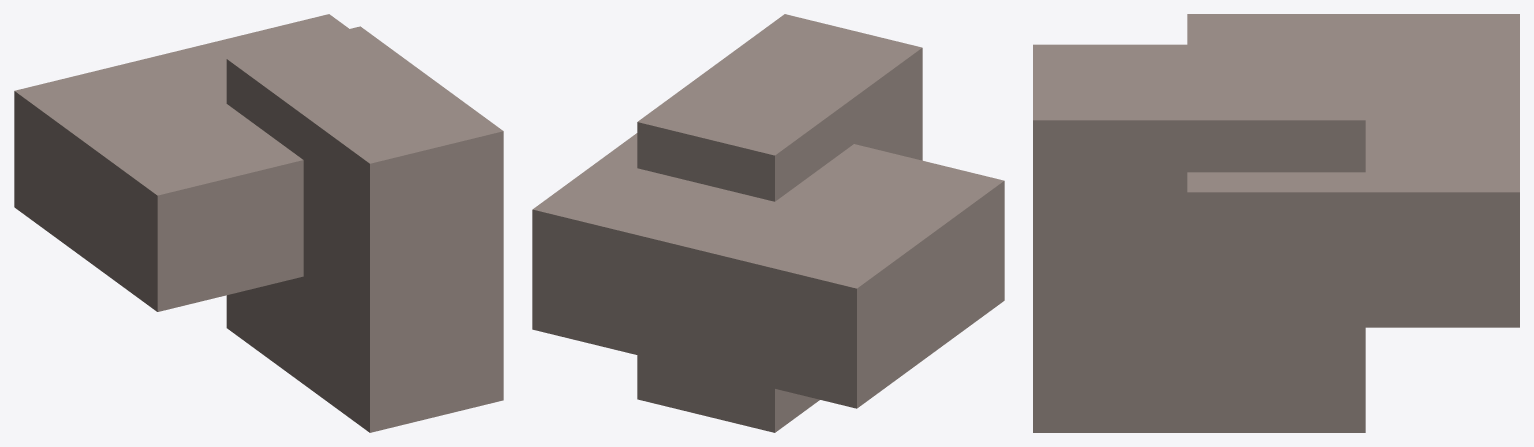
File: Batu.fbx
The picture shows the model from 3 angles, left to right: view 1: azimuth 30°, elevation 25°; view 2: azimuth 150°, elevation 25°; view 3: azimuth 270°, elevation 25°; orthographic projection. The views are drawn at different scales.
Visible parts, largest first — view 1: Cube.012; view 2: Cube.012; view 3: Cube.012.
Boxes of the visible parts, bbox=[...] form: Cube.012: bbox=[14, 14, 503, 432]; Cube.012: bbox=[532, 14, 1004, 432]; Cube.012: bbox=[1033, 14, 1519, 432].
Size of the model in its own units: 254 by 207 by 293.
